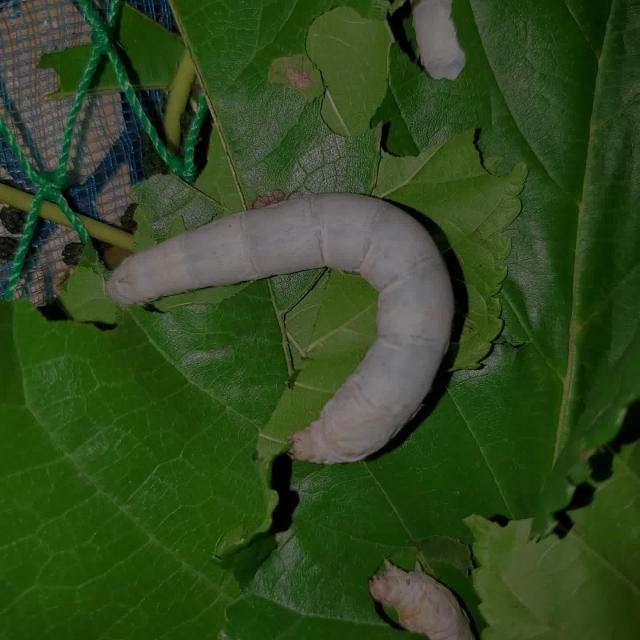Healthy: (98, 186, 460, 472)
